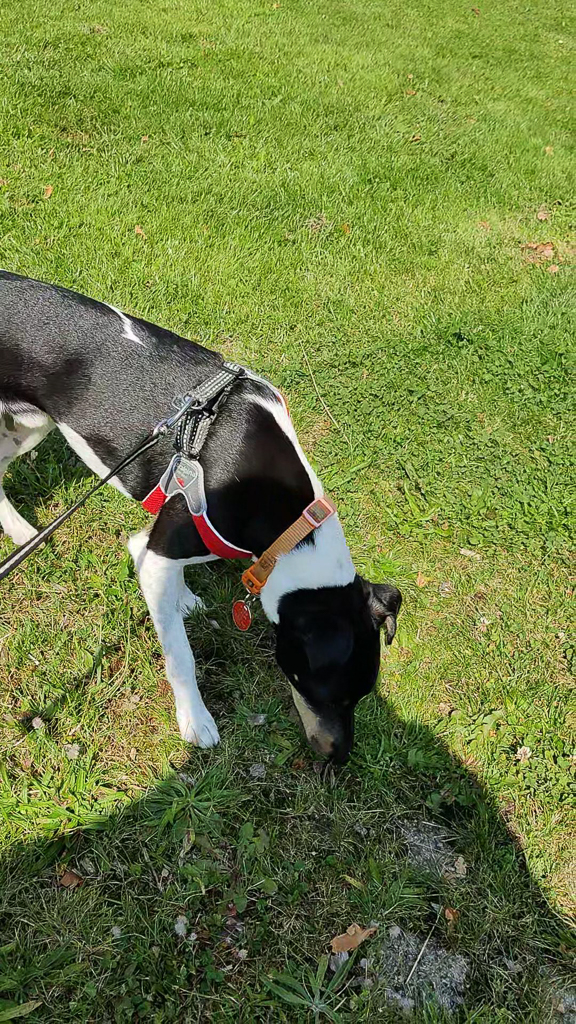Dog: (0, 242, 420, 802)
